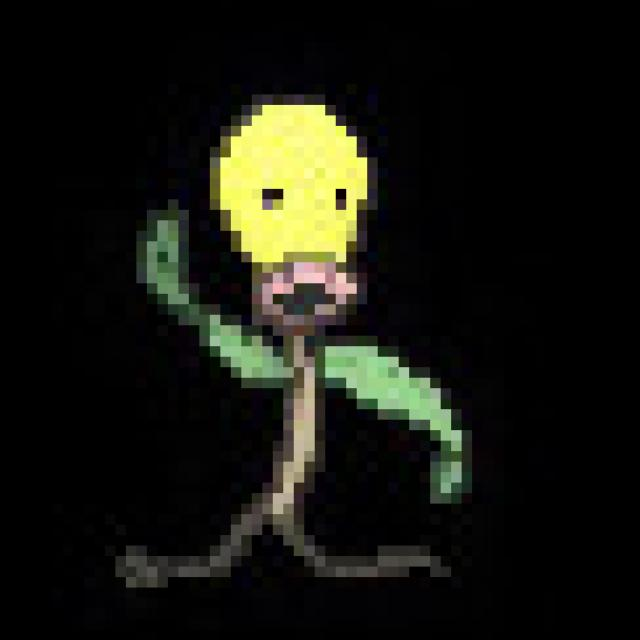Bellsprout: (134, 98, 420, 583)
